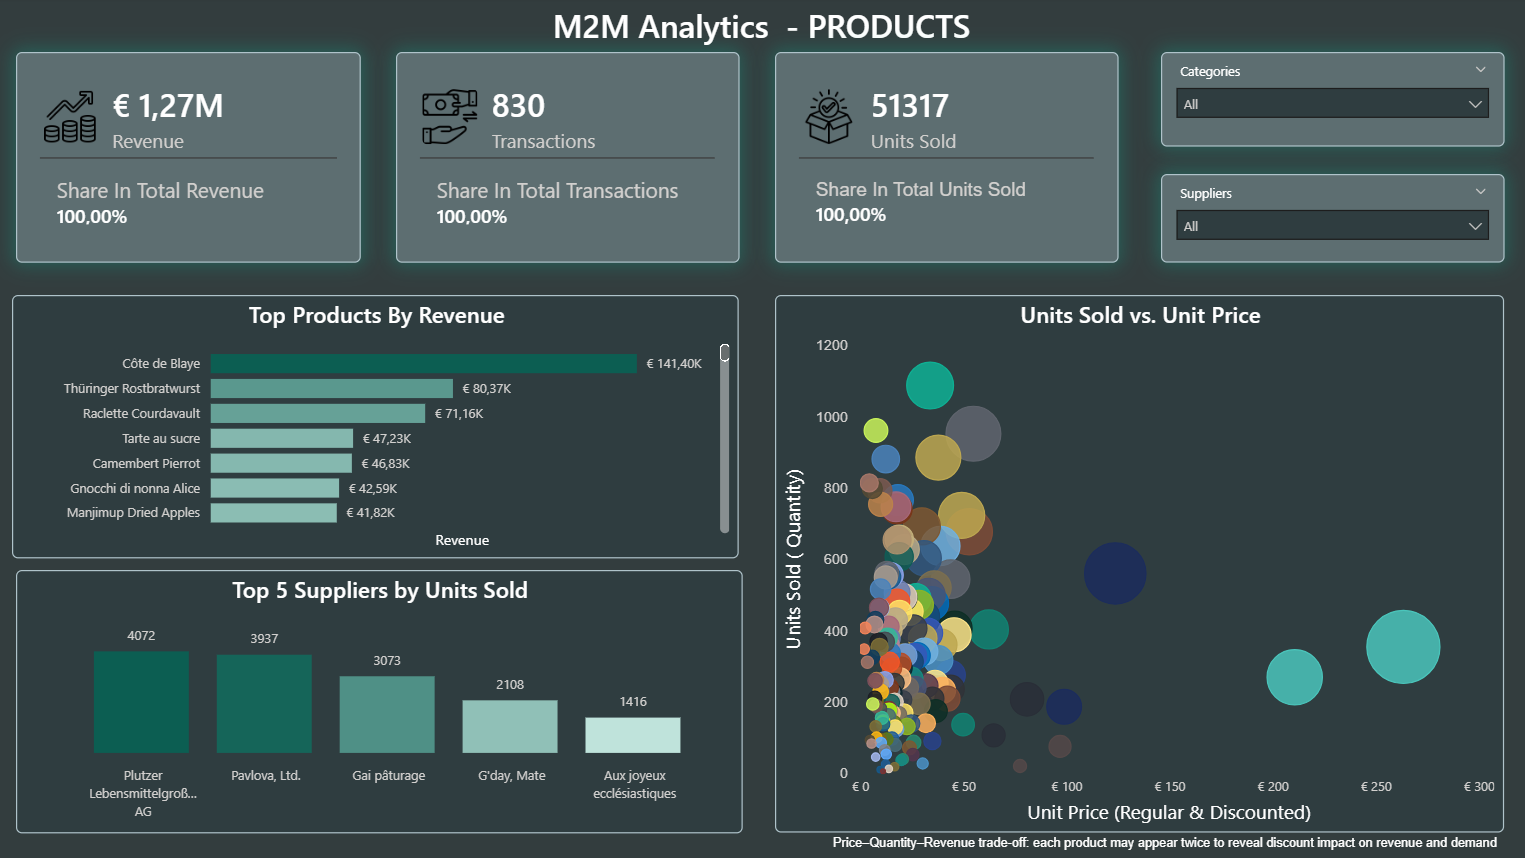

This screenshot's page, from the dashboard's own definition file:
{"tool":"powerbi","page":{"name":"Products","canvas":[1280,720],"ordinal":1},"visuals":[{"type":"cardVisual","fields":{"Data":["Measurements.Total_Transactions"]},"box":[331,45.6,286.9,176.2],"z":0},{"type":"cardVisual","fields":{"Data":["Metrics.Total_Revenue"]},"box":[13.3,45.9,288.1,176.1],"z":0,"group":"g1"},{"type":"textbox","box":[425.5,0,543.7,45.6],"z":1000},{"type":"group","id":"g1","title":"Group 1","box":[13.3,45.9,288.1,176],"z":2000},{"type":"clusteredBarChart","title":"Top Products By Revenue","fields":{"Y":["Metrics.Total_Revenue"],"Category":["Products.ProductName"]},"box":[10.2,248.9,607.5,220],"z":3000},{"type":"slicer","fields":{"Values":["Categories.CategoryName"]},"box":[969.4,45.6,286.9,78.8],"z":4000},{"type":"slicer","fields":{"Values":["Suppliers.CompanyName"]},"box":[969.4,148.1,286.9,73.8],"z":5000},{"type":"cardVisual","fields":{"Data":["Measurements.Total_Products_Sold"]},"box":[647.5,45.8,286.9,176.2],"z":6000},{"type":"scatterChart","title":"Units Sold vs. Unit Price","fields":{"Size":["Measurements.Total_Revenue"],"Y":["Sum(OrderDetails.Quantity)"],"X":["OrderDetails.UnitPrice"],"Series":["Products.ProductName"]},"box":[647.5,248.8,608.8,449.4],"z":7000},{"type":"clusteredColumnChart","title":"Top 5 Suppliers by Units Sold","fields":{"Category":["Suppliers.CompanyName"],"Y":["Measurements.Total_Units_Sold"]},"box":[13.6,478.4,606.9,219.8],"z":8000},{"type":"textbox","box":[690.6,693.6,565.9,26.5],"z":9000}]}

Visuals, with their boxes in screenshot pixels (x1, y1, x2, y2), scaled from the page's 1280x720 canvas onto the 1525x858 screenshot:
cardVisual - Measurements.Total_Transactions: [left=394, top=54, right=736, bottom=264]
cardVisual - Metrics.Total_Revenue: [left=16, top=55, right=359, bottom=265]
textbox: [left=507, top=0, right=1155, bottom=54]
"Group 1" group: [left=16, top=55, right=359, bottom=264]
"Top Products By Revenue" clusteredBarChart: [left=12, top=297, right=736, bottom=559]
slicer - Categories.CategoryName: [left=1155, top=54, right=1497, bottom=148]
slicer - Suppliers.CompanyName: [left=1155, top=176, right=1497, bottom=264]
cardVisual - Measurements.Total_Products_Sold: [left=771, top=55, right=1113, bottom=265]
"Units Sold vs. Unit Price" scatterChart: [left=771, top=296, right=1497, bottom=832]
"Top 5 Suppliers by Units Sold" clusteredColumnChart: [left=16, top=570, right=739, bottom=832]
textbox: [left=823, top=827, right=1497, bottom=857]
